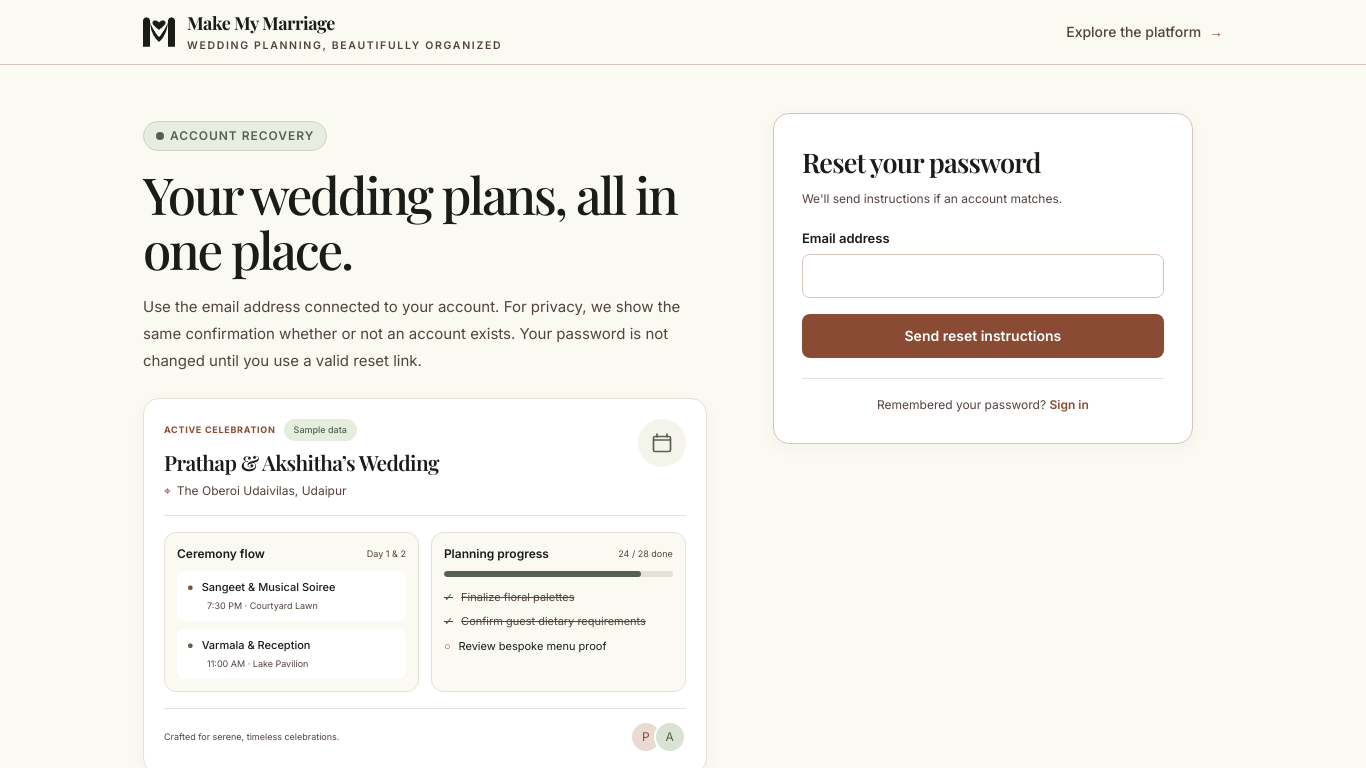
authentication screens › validates forgot-password email input
The image size is (1366, 768).
Click the button "Send reset instructions" at (983, 336), box top-left (802, 314), bottom-right (1164, 358)
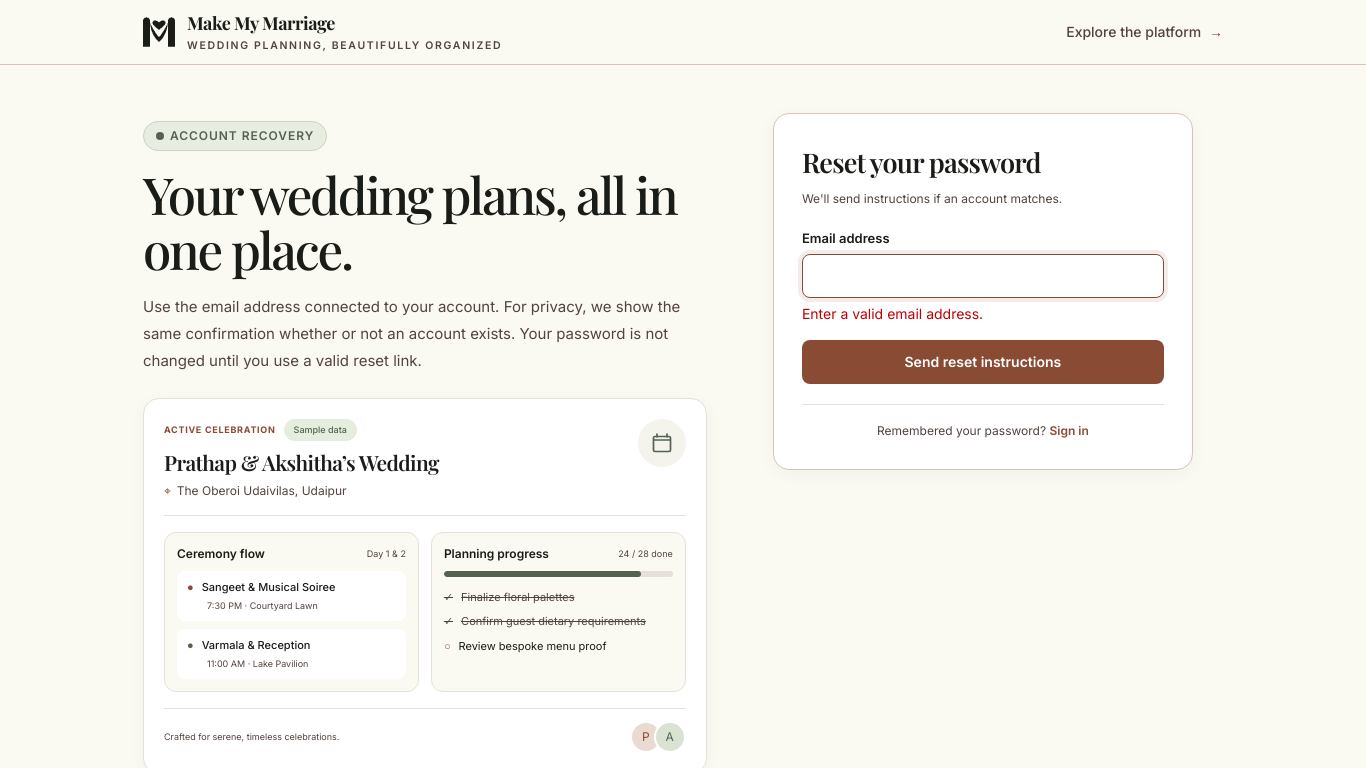
Check: the text "Enter a valid email address." is shown, box top-left (802, 305), bottom-right (983, 322)
